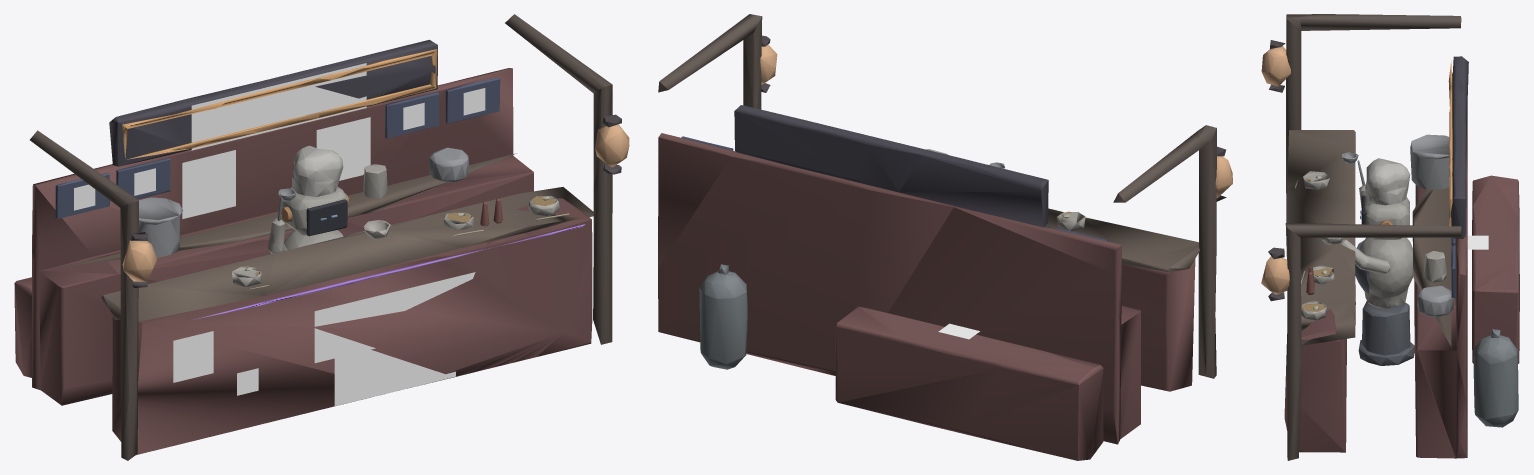
File: kiosque.glb
The picture shows the model from 3 angles, left to right: view 1: azimuth 30°, elevation 25°; view 2: azimuth 150°, elevation 25°; view 3: azimuth 270°, elevation 25°; orthographic projection. The views are drawn at different scales.
Parts seen in each view (by area): view 1: kiosque, kiosque_decal, kiosque_decallit, kiosque_robot, kiosque_glow, kiosque_glowlit; view 2: kiosque, kiosque_glowlit; view 3: kiosque, kiosque_robot, kiosque_glowlit, kiosque_glow, kiosque_decal.
Boxes of the visible parts, x1,y1,x2,y2 form: kiosque: (14, 14, 621, 460); kiosque_decal: (74, 88, 485, 405); kiosque_decallit: (182, 63, 370, 218); kiosque_robot: (268, 145, 391, 253); kiosque_glow: (122, 49, 585, 319); kiosque_glowlit: (122, 124, 629, 281); kiosque: (658, 14, 1226, 460); kiosque_glowlit: (760, 44, 1232, 198); kiosque: (1268, 14, 1519, 460); kiosque_robot: (1321, 152, 1414, 365); kiosque_glowlit: (1261, 46, 1290, 294); kiosque_glow: (1448, 60, 1452, 226); kiosque_decal: (1467, 235, 1488, 249).
Bounding box in the file's own units: 3.75 × 1.88 × 1.84.
